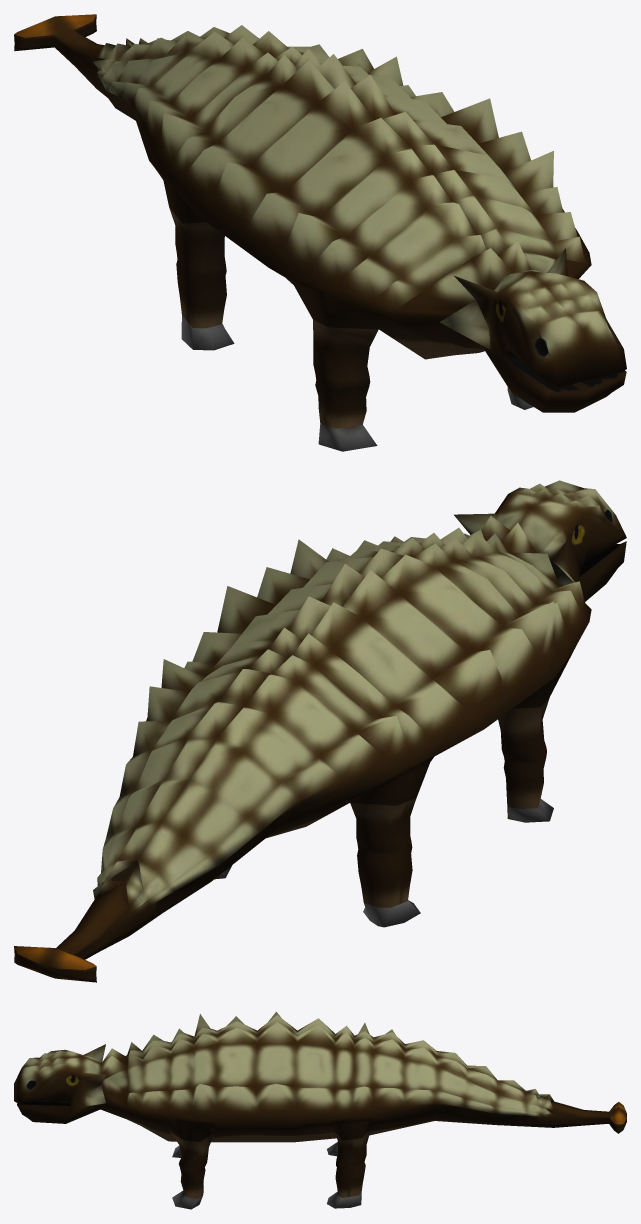
The model's file is ankylosaurus.glb.
3 renders of one model, top to bottom at view 1: azimuth 30°, elevation 25°; view 2: azimuth 150°, elevation 25°; view 3: azimuth 270°, elevation 25°, orthographic. The views are drawn at different scales.
Parts seen in each view (by area): view 1: Cube; view 2: Cube; view 3: Cube.
Part boxes in pixels (<box>): Cube: <box>14,14,626,451</box>; Cube: <box>14,480,626,982</box>; Cube: <box>14,1011,626,1209</box>.
Bounding box in the file's own units: 5.38 × 5.06 × 17.65.
1 material, 1 textured.
